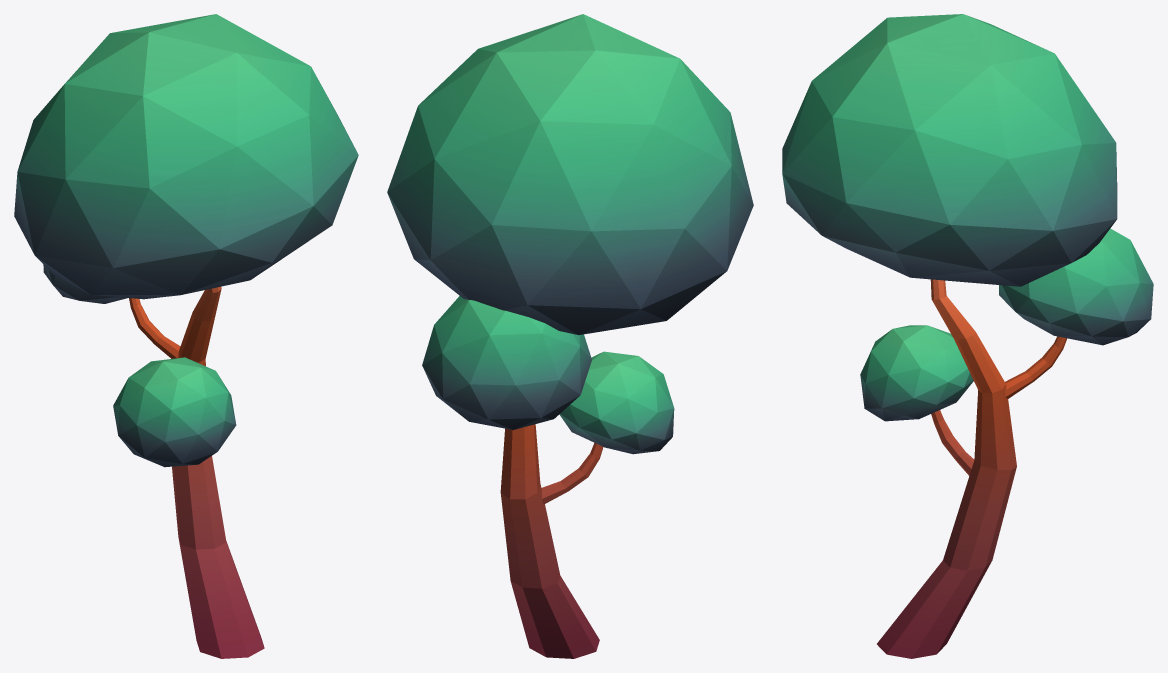
The model's file is Tree_Maple_2.fbx.
3 views of the same model, side by side, from view 1: azimuth 30°, elevation 25°; view 2: azimuth 150°, elevation 25°; view 3: azimuth 270°, elevation 25° (orthographic). The views are drawn at different scales.
Visible parts, largest first — view 1: Maple Tree; view 2: Maple Tree; view 3: Maple Tree.
Part boxes in pixels (x1,y1,x2,y2): Maple Tree: [14, 14, 358, 658]; Maple Tree: [387, 14, 753, 658]; Maple Tree: [782, 14, 1153, 658].
Size of the model in its own units: 224 by 428 by 239.
